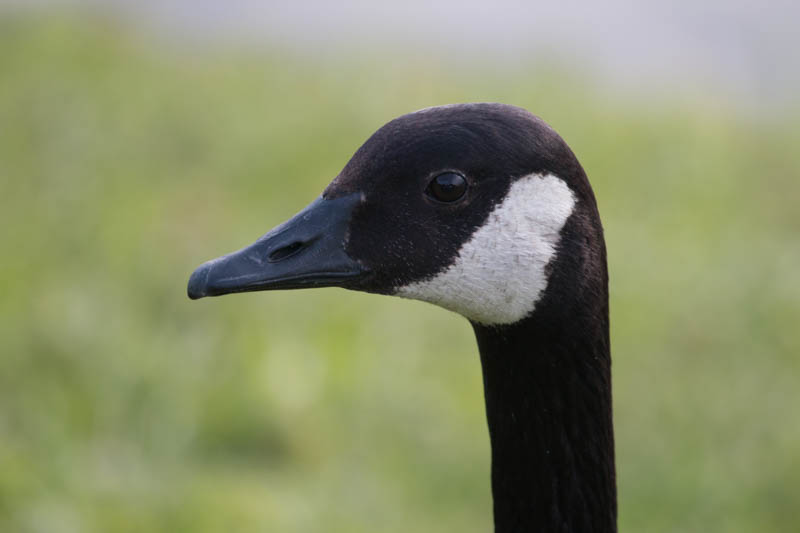goose-head: (188, 101, 610, 331)
